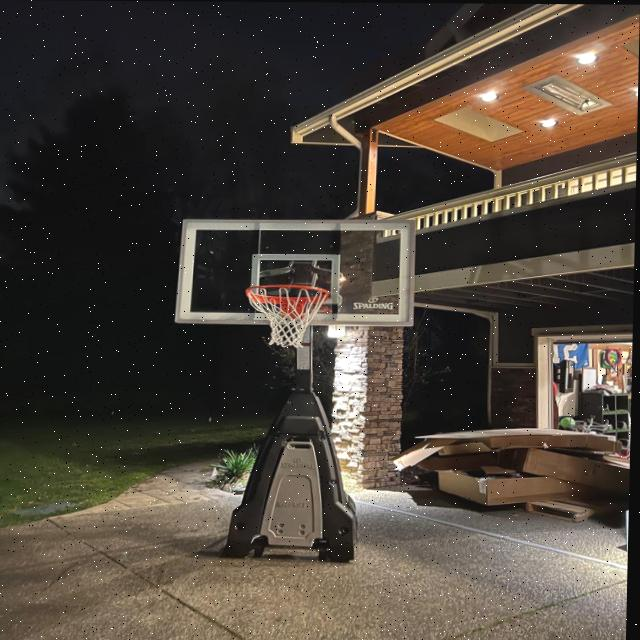basketball: (279, 301, 305, 321), (560, 417, 575, 428)
hoop: (244, 285, 329, 349)
